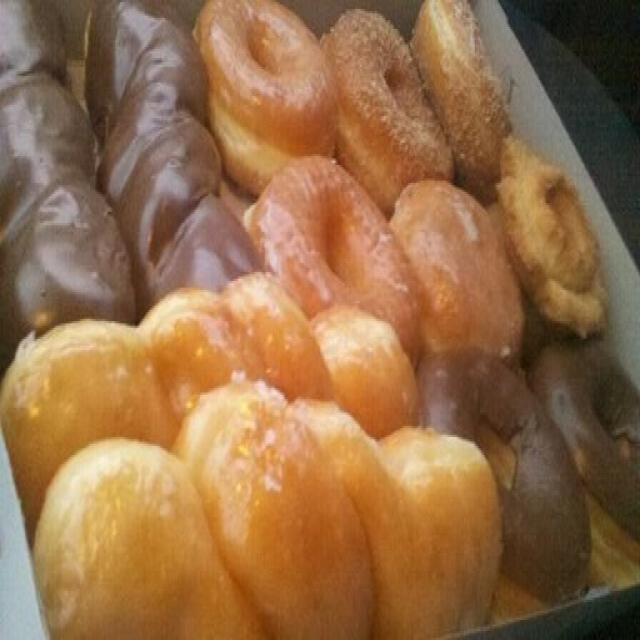Donuts: (5, 2, 640, 640)
